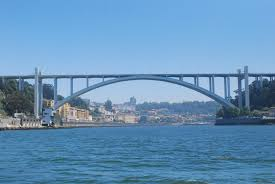arrabida: (0, 67, 274, 120)
